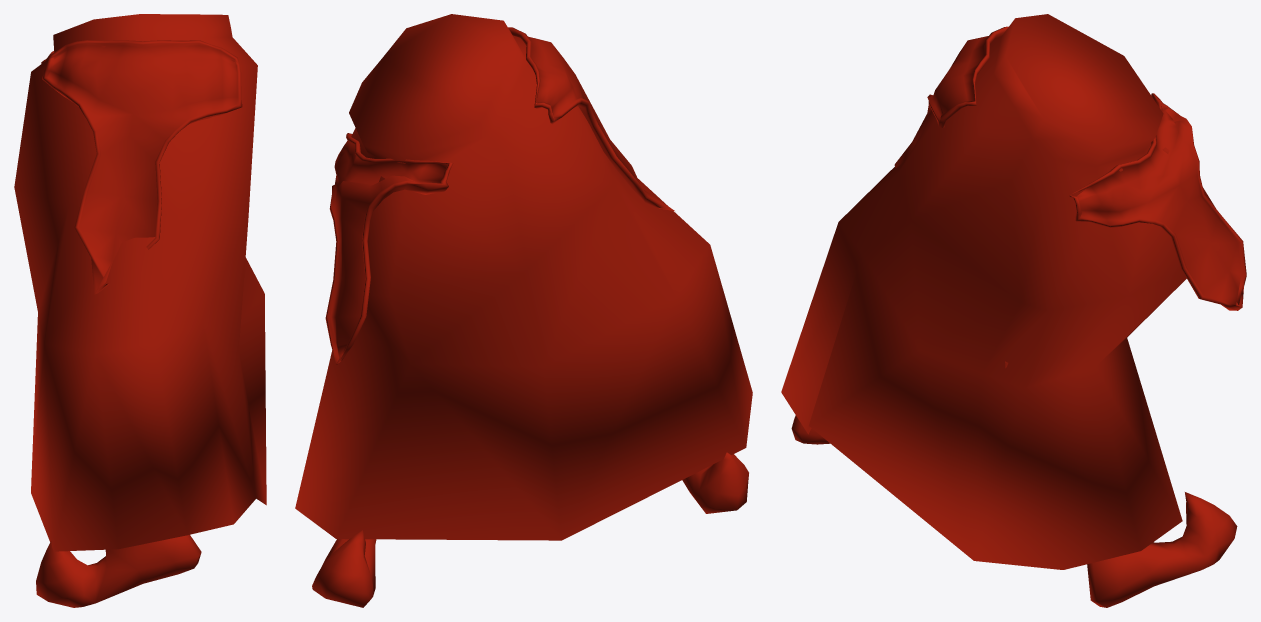
The model's file is bot_000067.obj.
The picture shows the model from 3 angles, left to right: view 1: azimuth 30°, elevation 25°; view 2: azimuth 150°, elevation 25°; view 3: azimuth 270°, elevation 25°; orthographic projection. The views are drawn at different scales.
Parts seen in each view (by area): view 1: LowPoly_Warlock.004_Plane.004; view 2: LowPoly_Warlock.004_Plane.004; view 3: LowPoly_Warlock.004_Plane.004.
Part boxes in pixels (box(x1,y1,x2,y2)): LowPoly_Warlock.004_Plane.004: box(14, 14, 266, 607); LowPoly_Warlock.004_Plane.004: box(295, 14, 752, 607); LowPoly_Warlock.004_Plane.004: box(781, 14, 1246, 607).
Bounding box in the file's own units: 0.6816 × 1.14 × 0.894.
